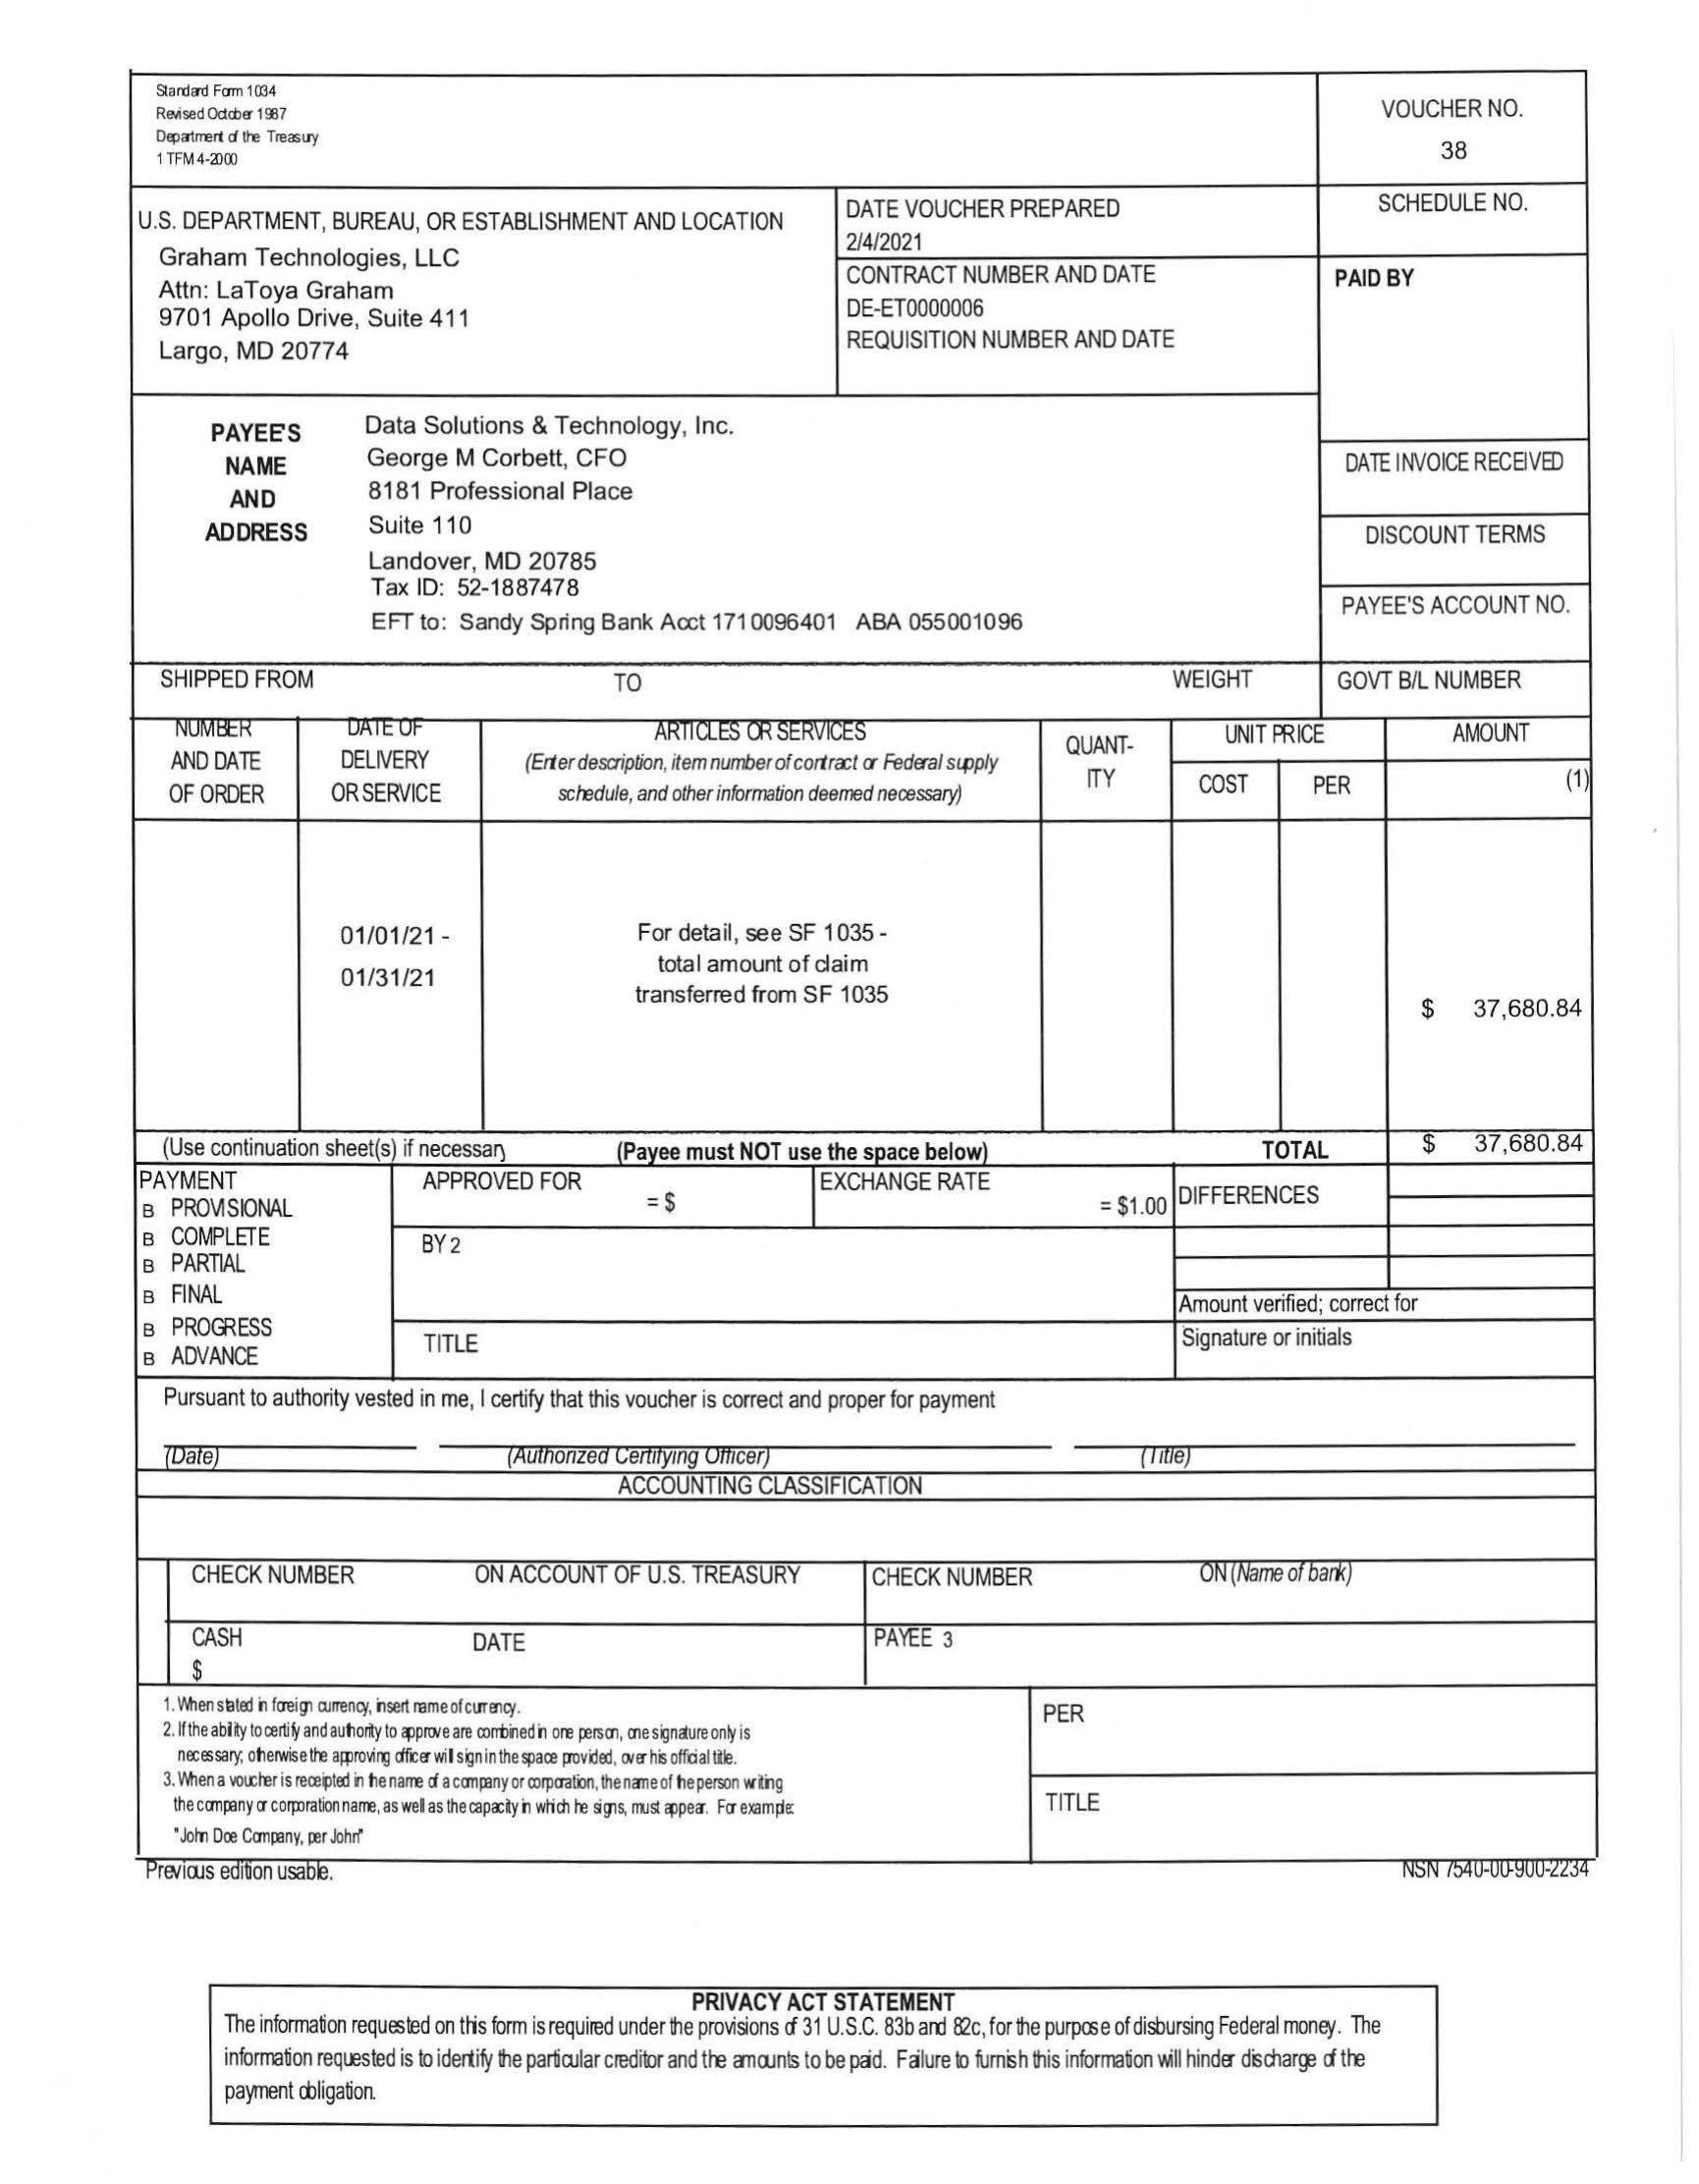table: (124, 714, 1598, 1126)
